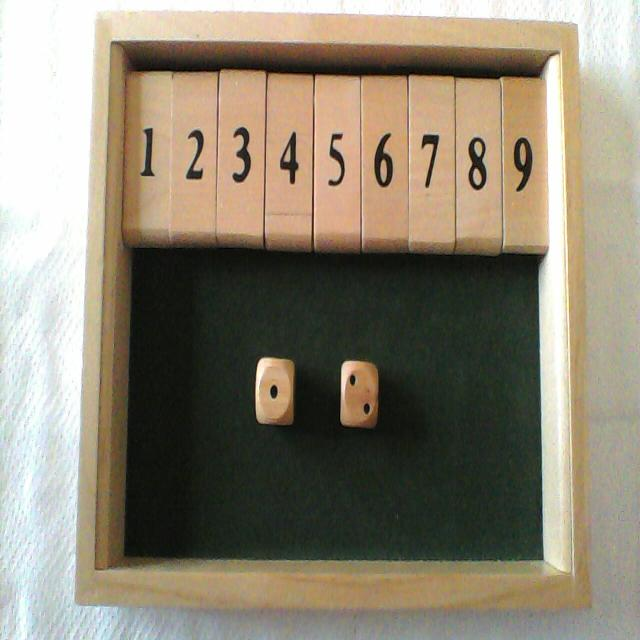1: (249, 348, 298, 437)
2: (336, 353, 384, 438)
C1: (121, 11, 171, 248)
C2: (172, 11, 217, 249)
C3: (218, 12, 266, 248)
C4: (267, 13, 313, 250)
C5: (316, 15, 360, 252)
C6: (363, 15, 408, 252)
C7: (411, 16, 455, 253)
C8: (458, 18, 500, 254)
C9: (504, 19, 547, 255)
